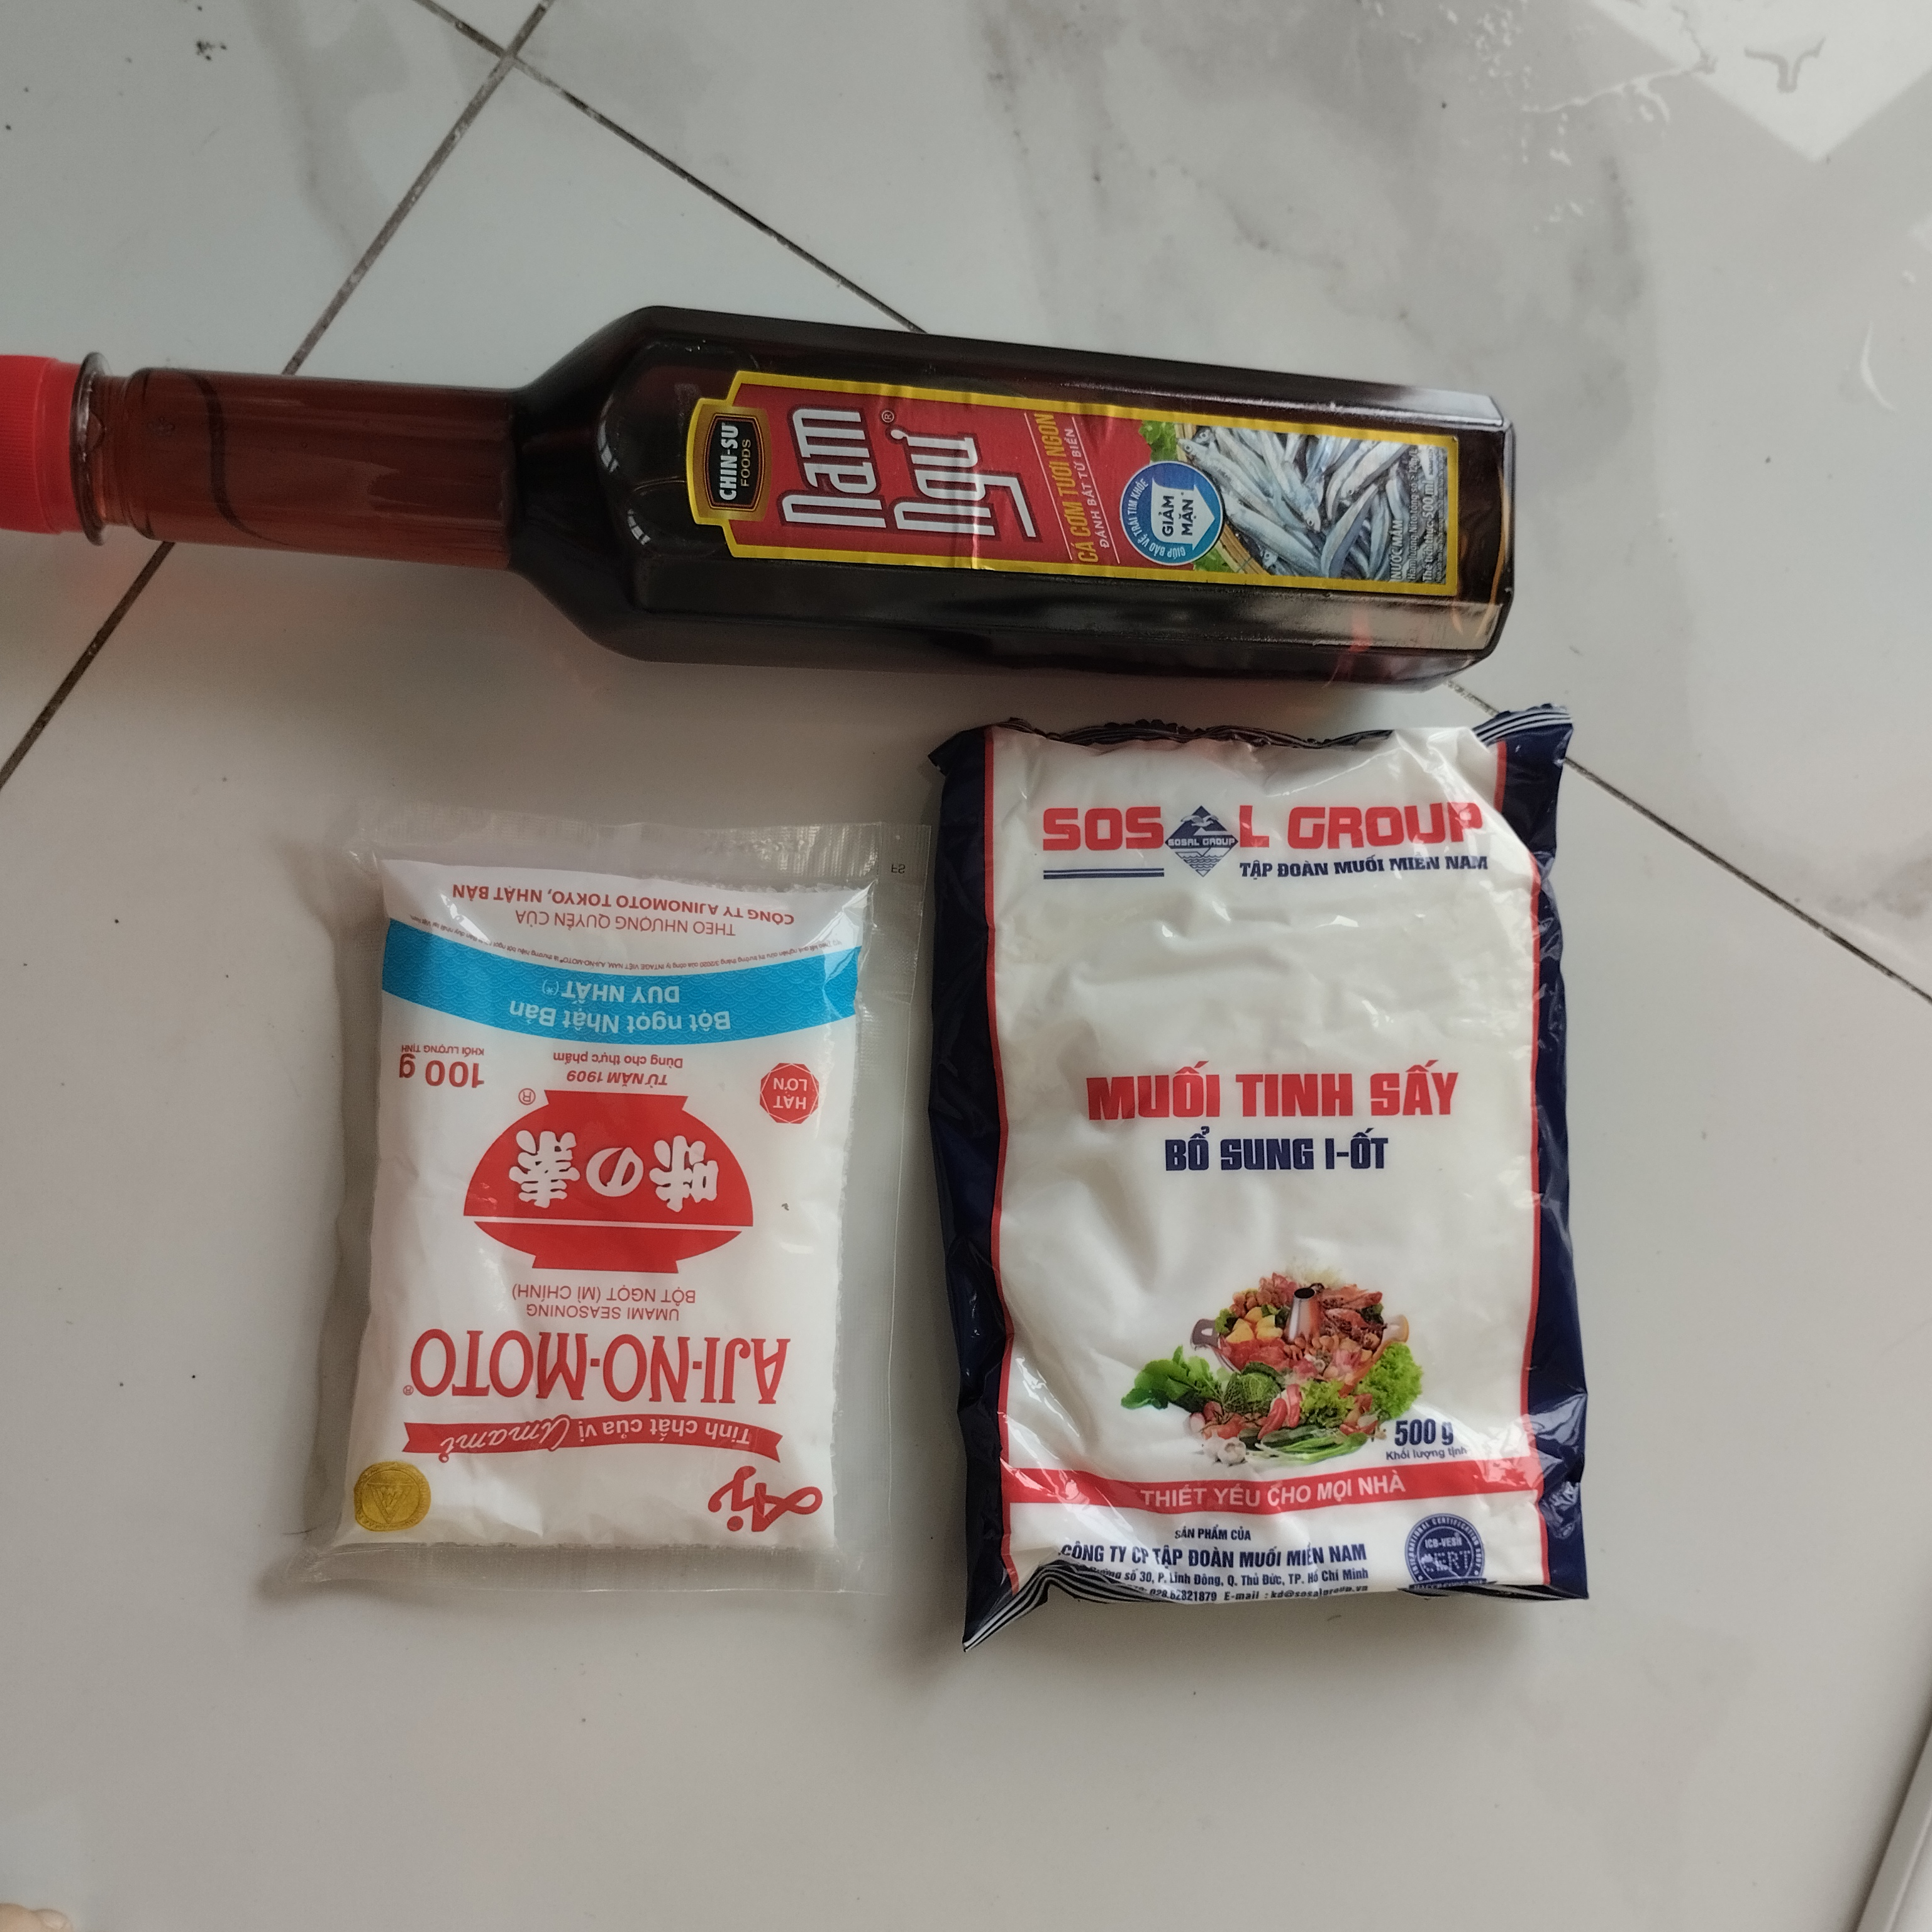Ajinomoto: (287, 786, 929, 1598)
Namngu: (4, 288, 1537, 699)
Salt: (879, 697, 1615, 1645)
